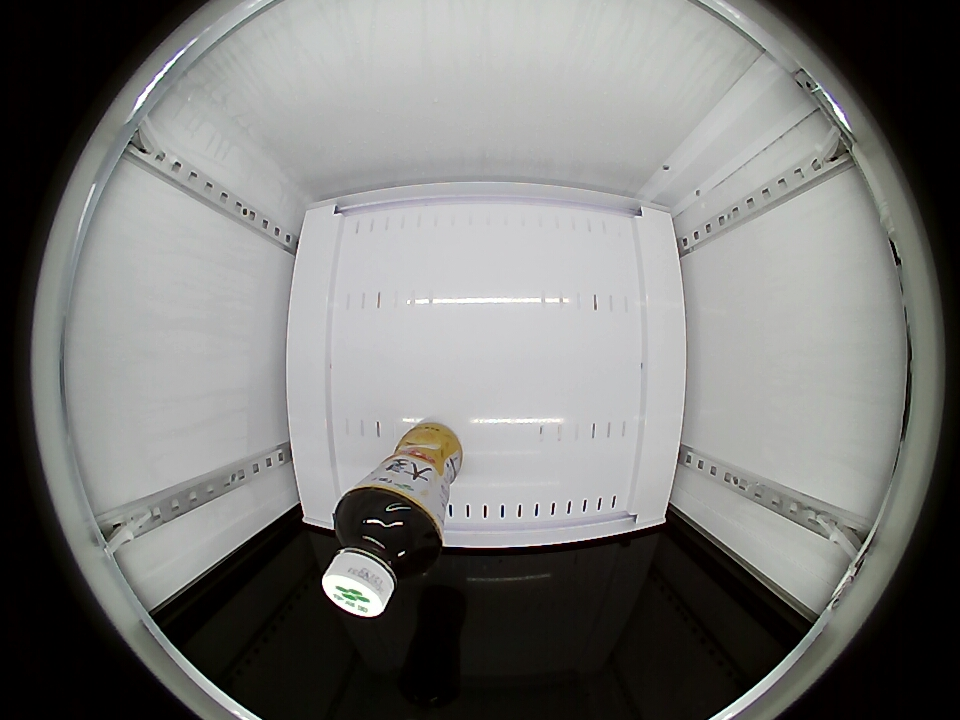damaicha: (323, 490, 441, 618)
